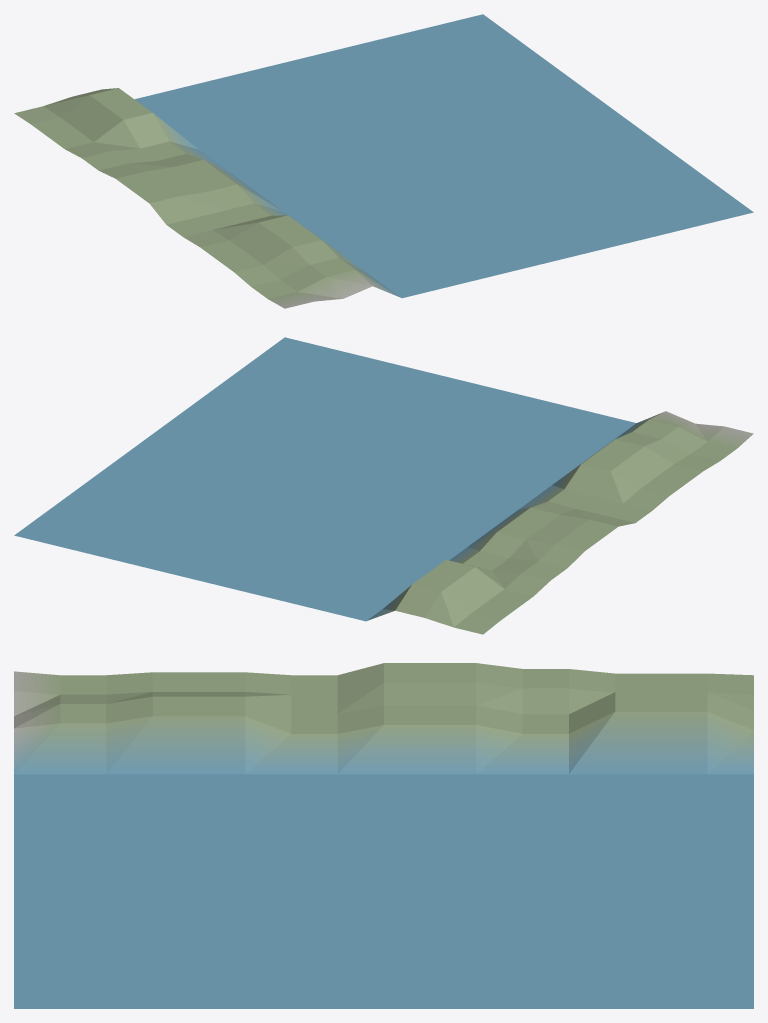
3 views of the same model, one above another, from view 1: azimuth 30°, elevation 25°; view 2: azimuth 150°, elevation 25°; view 3: azimuth 270°, elevation 25° (orthographic). The views are drawn at different scales.
Bounding box in the file's own units: 32 × 2.06 × 32.
